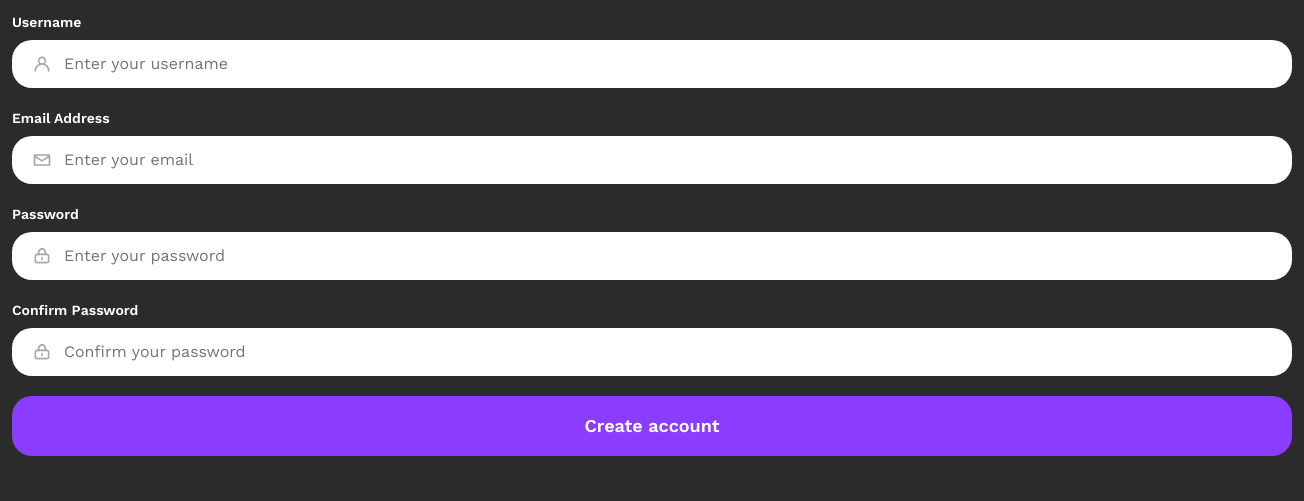
it: CreateAccountForm › marks an invalid field for assistive technology
Step 1. Type "satoshi" into the field labelled "Username" → (668, 64), box [64,52,1272,76]
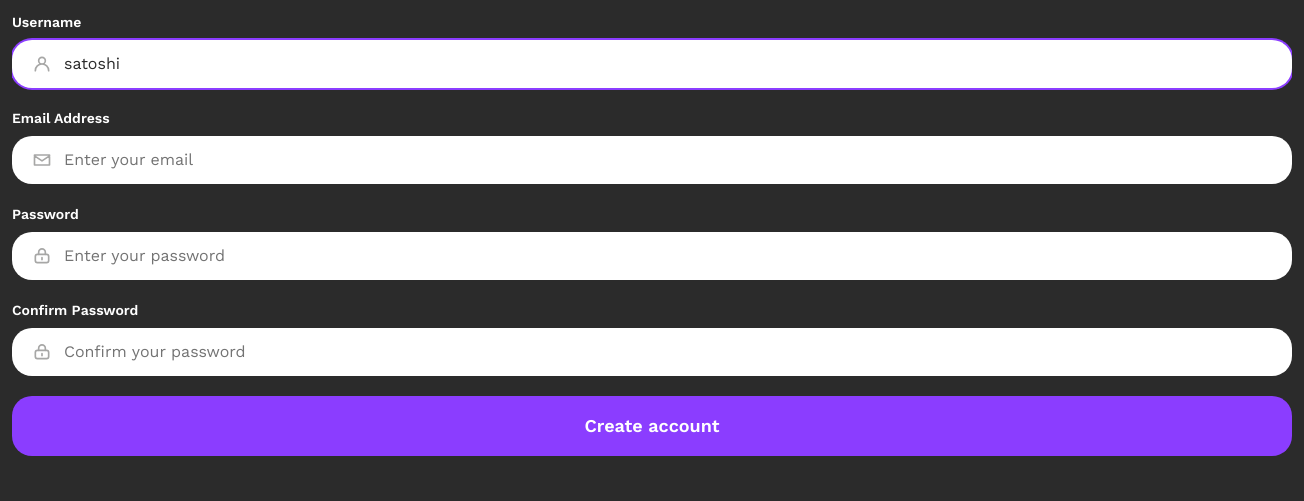
Step 2. Type "not-an-email" into the field labelled "Email Address" → (668, 160), box [64,148,1272,172]
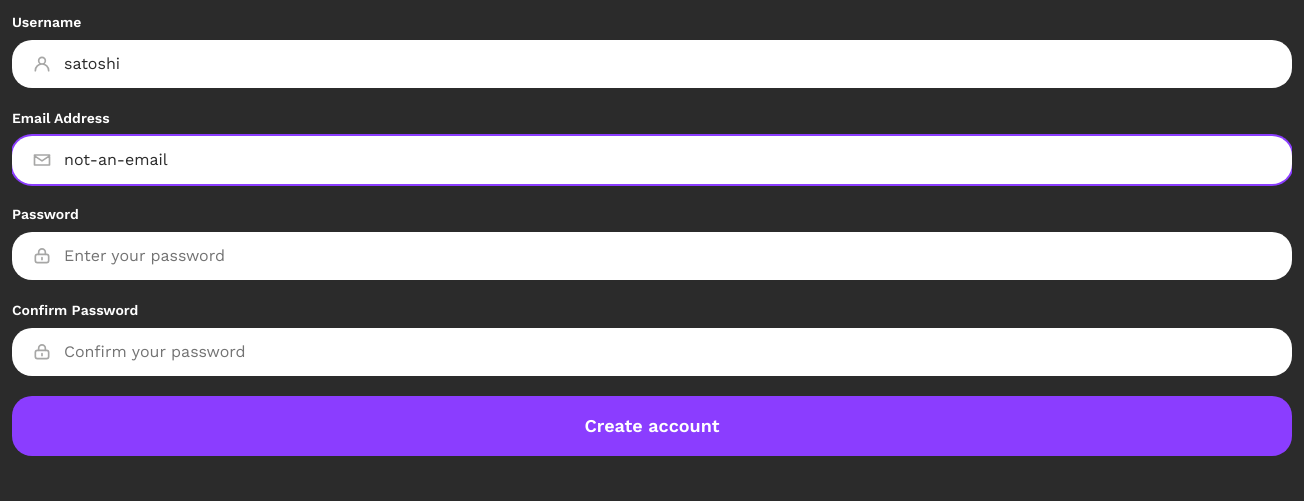
Step 3. Type "correct-horse" into the password field labelled "Password" → (668, 256), box [64,244,1272,268]
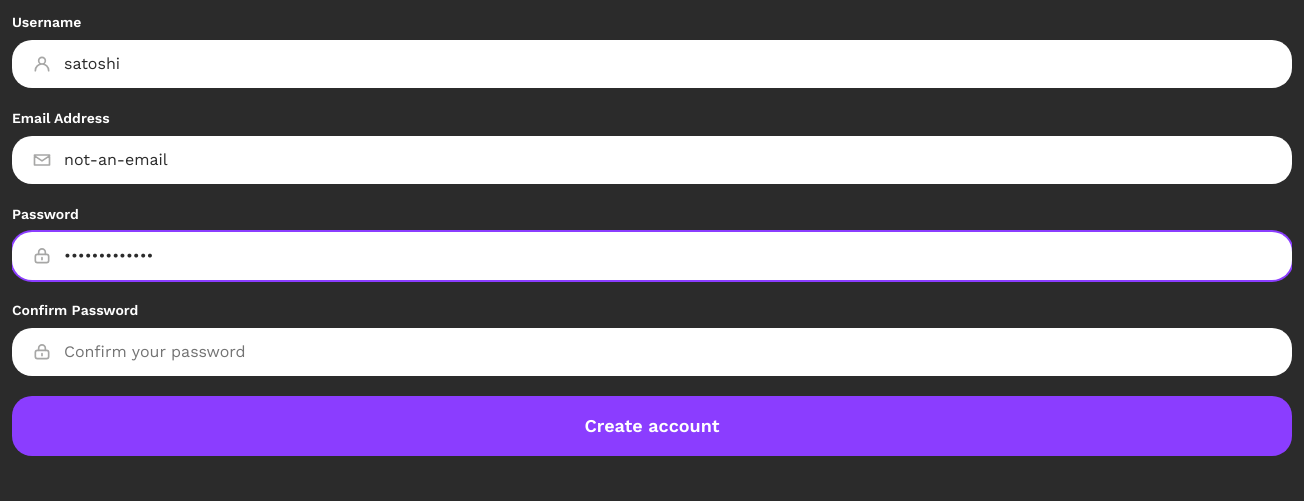
Step 4. Type "correct-horse" into the password field labelled "Confirm Password" → (668, 352), box [64,340,1272,364]
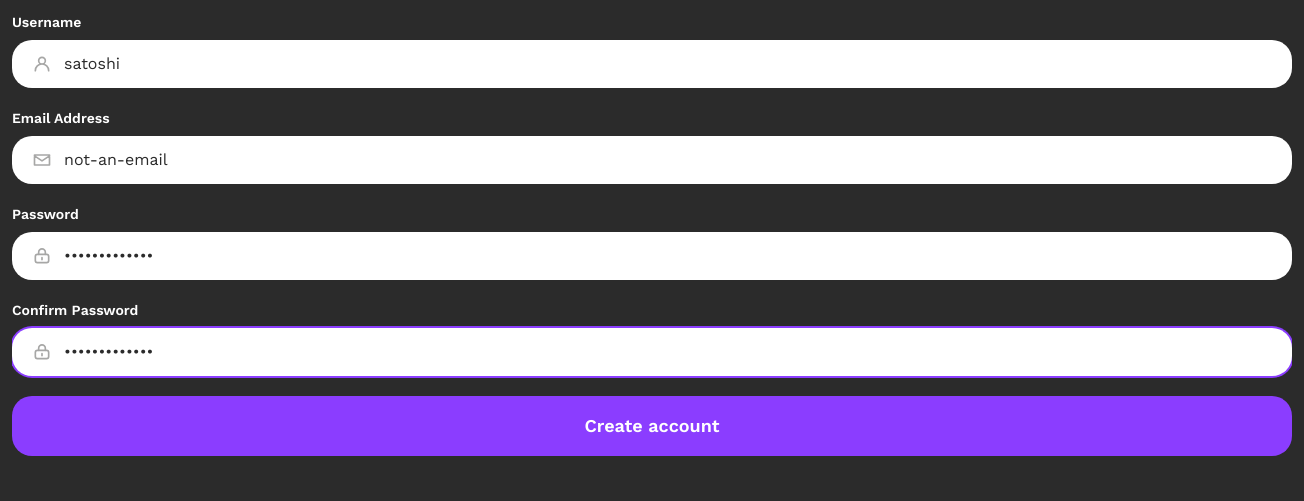
Step 5. Click the button "Create account" → (652, 426), box [12,396,1292,456]
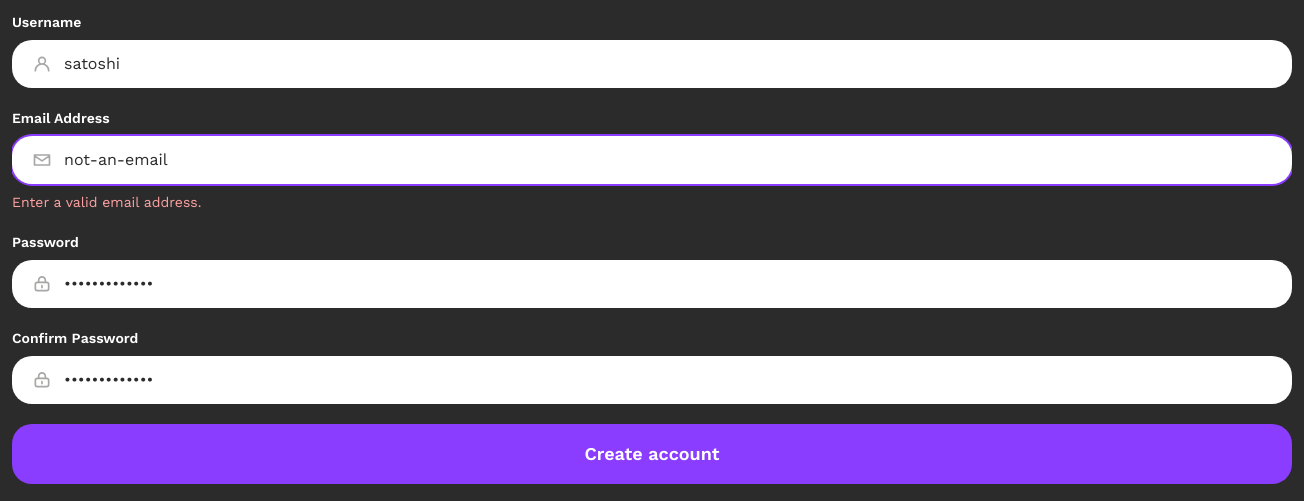
Check: the message reads "Enter a valid email address.", box [12,194,201,210]
